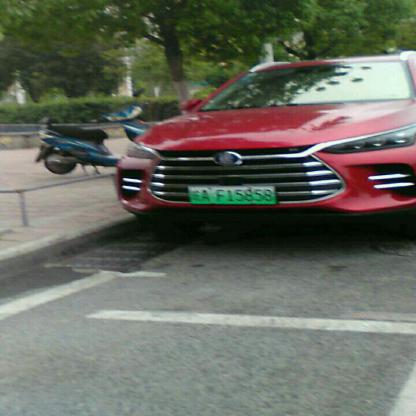lp: (187, 185, 276, 204)
